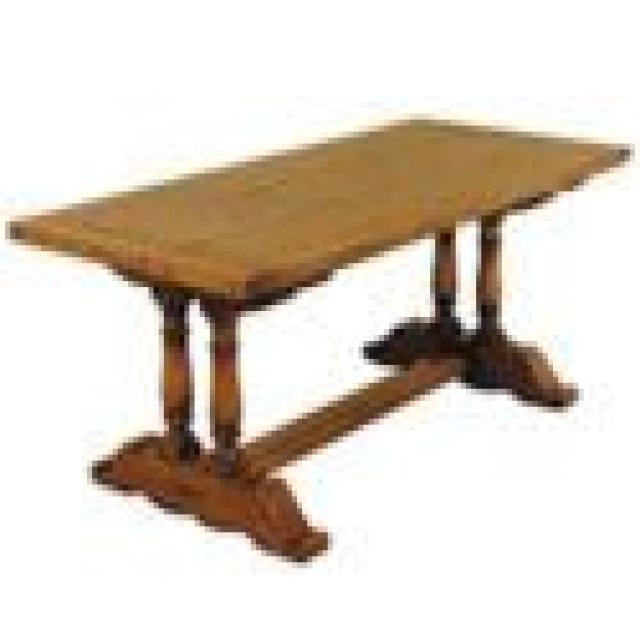table: (6, 114, 632, 574)
